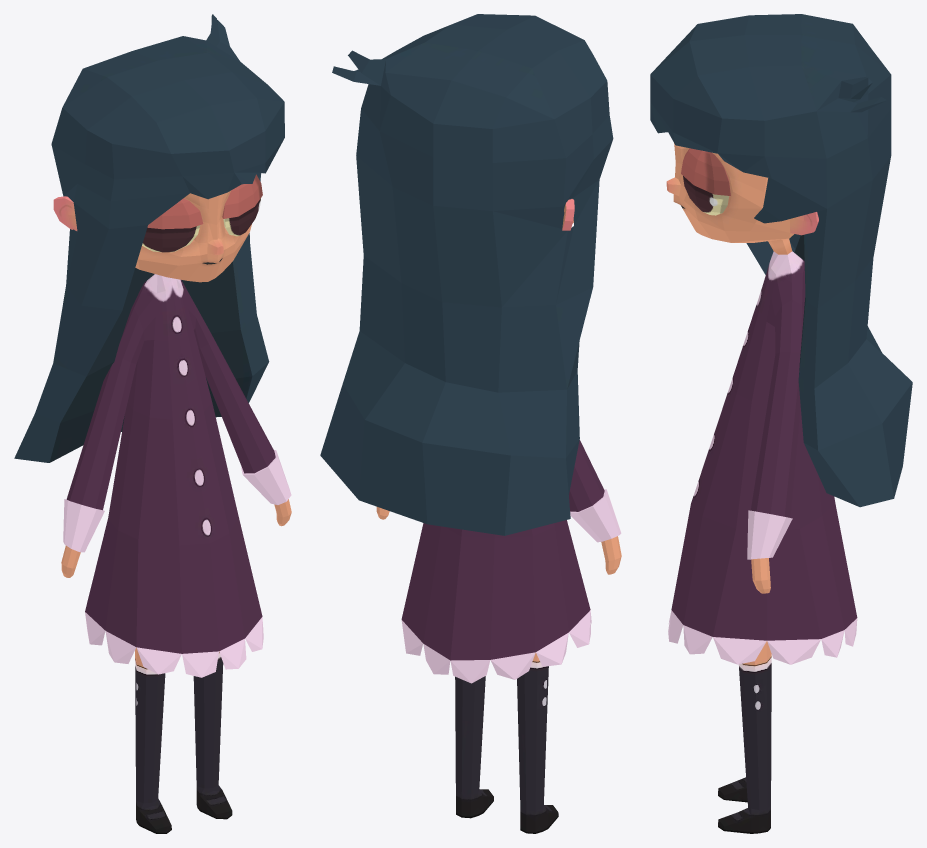
3 views of the same model, side by side, from view 1: azimuth 30°, elevation 25°; view 2: azimuth 150°, elevation 25°; view 3: azimuth 270°, elevation 25° (orthographic). The views are drawn at different scales.
Visible parts, largest first — view 1: Object_3, Object_2; view 2: Object_2, Object_3; view 3: Object_2, Object_3.
Boxes of the visible parts, x1=… form: Object_3: x1=53, y1=190, x2=291, y2=833; Object_2: x1=14, y1=14, x2=284, y2=462; Object_2: x1=320, y1=14, x2=613, y2=535; Object_3: x1=376, y1=199, x2=621, y2=833; Object_2: x1=650, y1=14, x2=912, y2=507; Object_3: x1=666, y1=143, x2=857, y2=833.
Size of the model in its own units: 1.08 by 3.23 by 0.9865.
2 materials, 2 textured.
